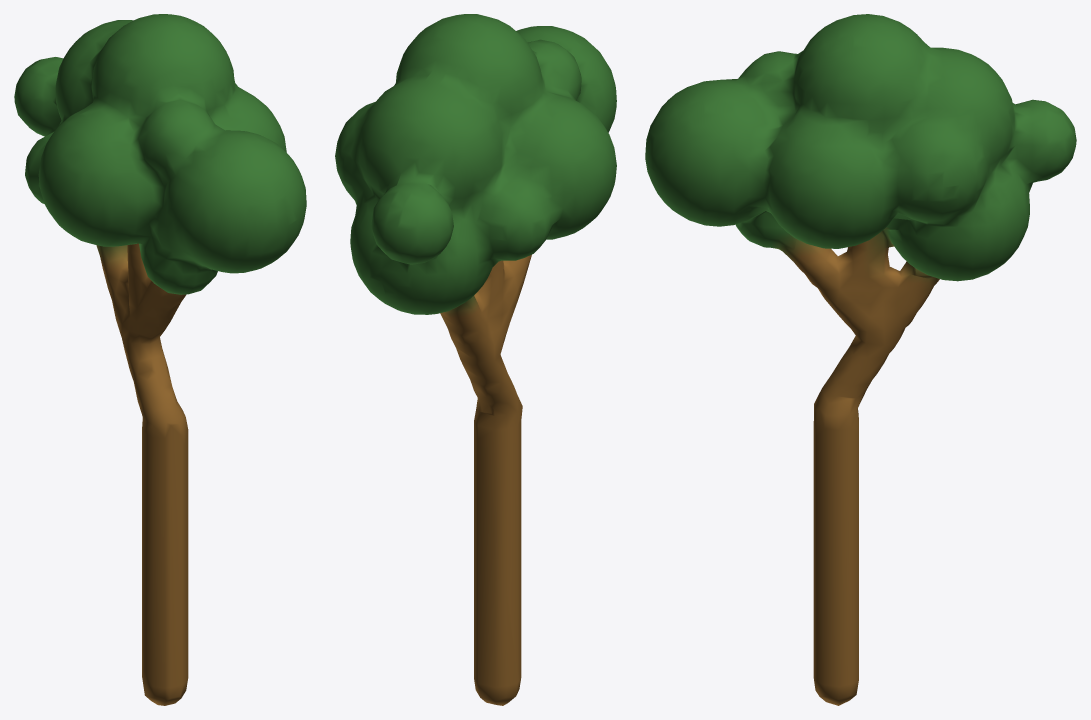
File: tree.gltf
The picture shows the model from 3 angles, left to right: view 1: azimuth 30°, elevation 25°; view 2: azimuth 150°, elevation 25°; view 3: azimuth 270°, elevation 25°; orthographic projection. The views are drawn at different scales.
Parts seen in each view (by area): view 1: Area (2); view 2: Area (2); view 3: Area (2).
Boxes of the visible parts, <box> form: Area (2): <box>14,14,306,705</box>; Area (2): <box>335,14,616,705</box>; Area (2): <box>645,14,1076,705</box>.
Bounding box in the file's own units: 35.3 × 102 × 57.62.
Materials: 1 (1 with a texture image).
